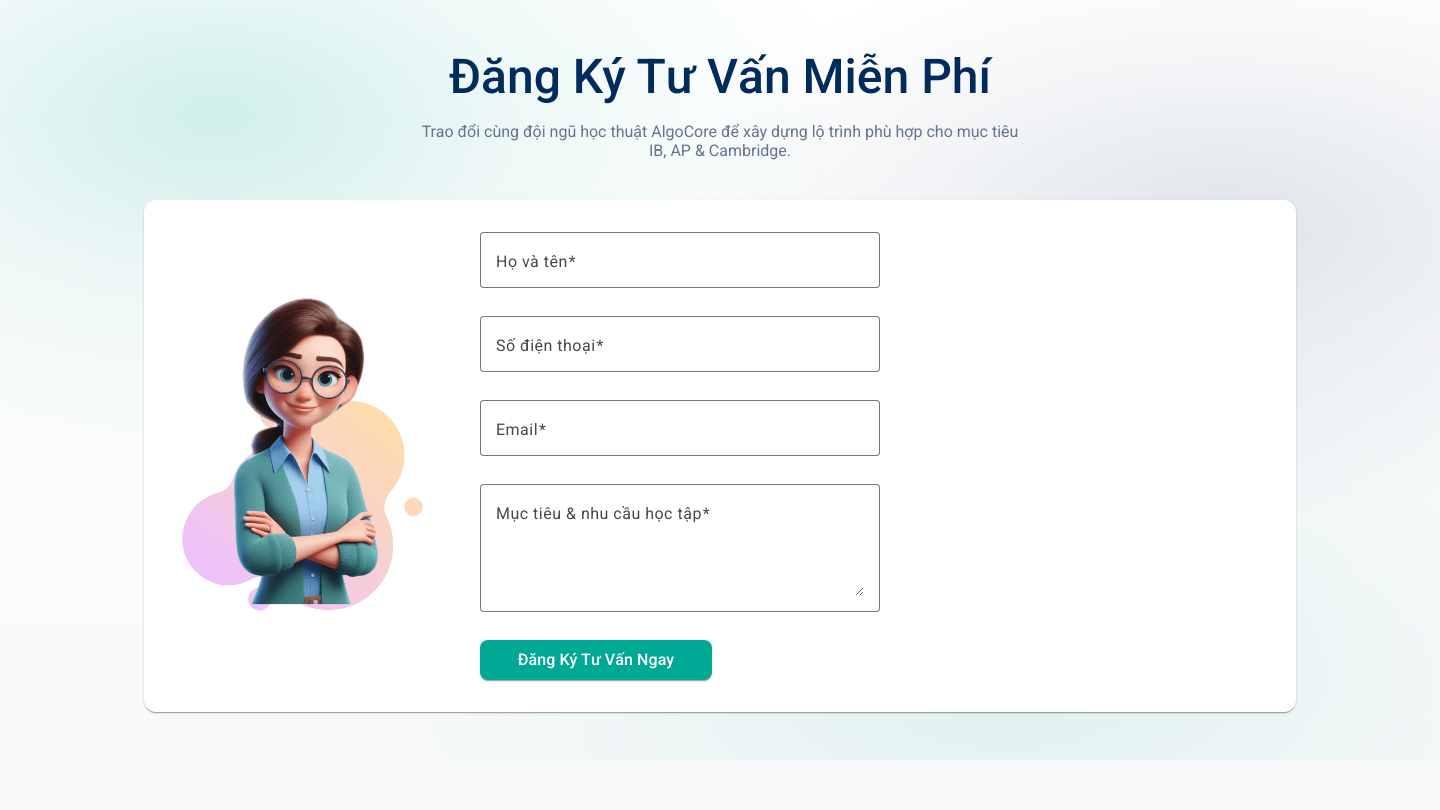
Test: FindBestClassSectionComponent › should display validation errors when form is submitted blank
Click the submit button at (596, 660), box left=480, top=640, right=712, bottom=680
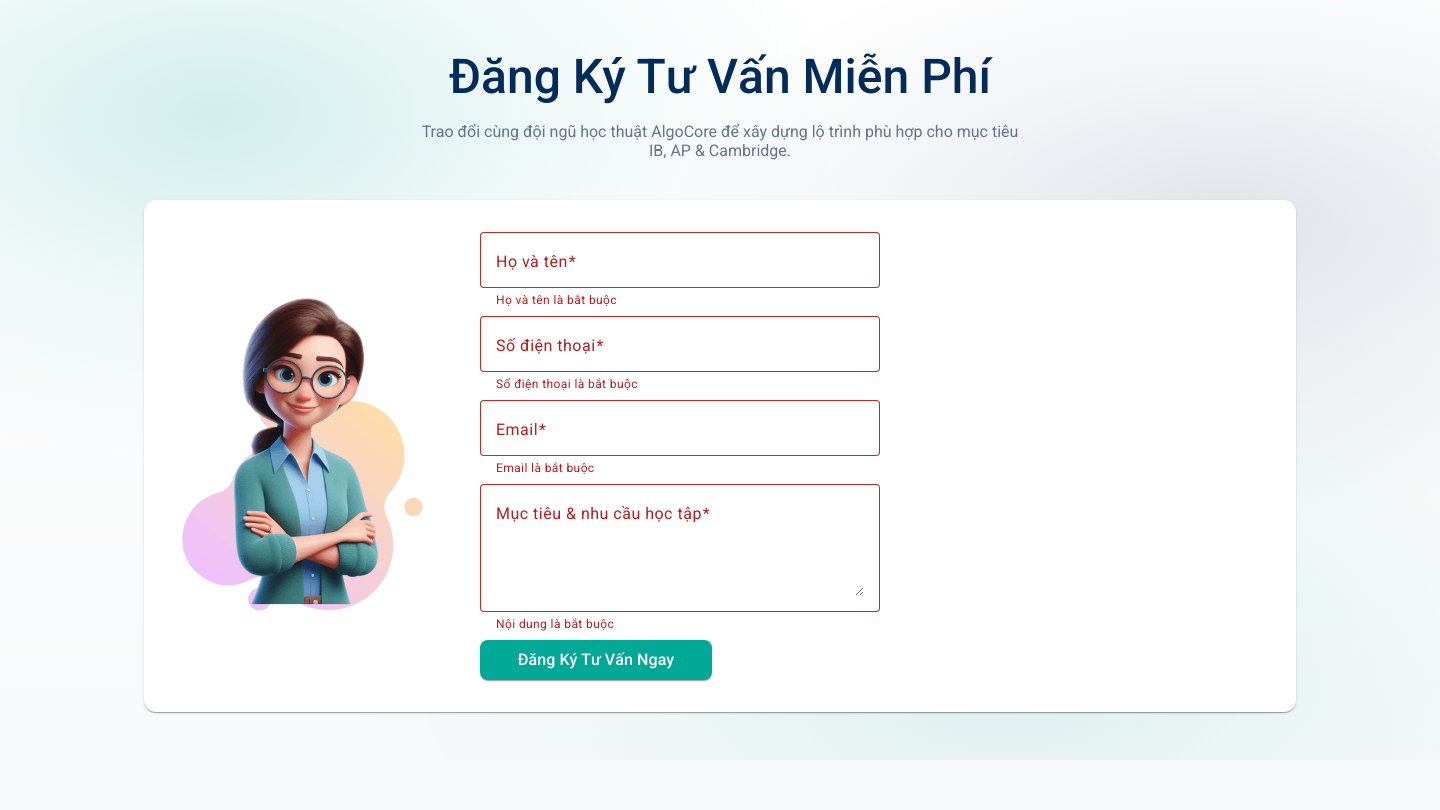
expect the text "Họ và tên là bắt buộc" is shown: met, box left=496, top=293, right=617, bottom=307
